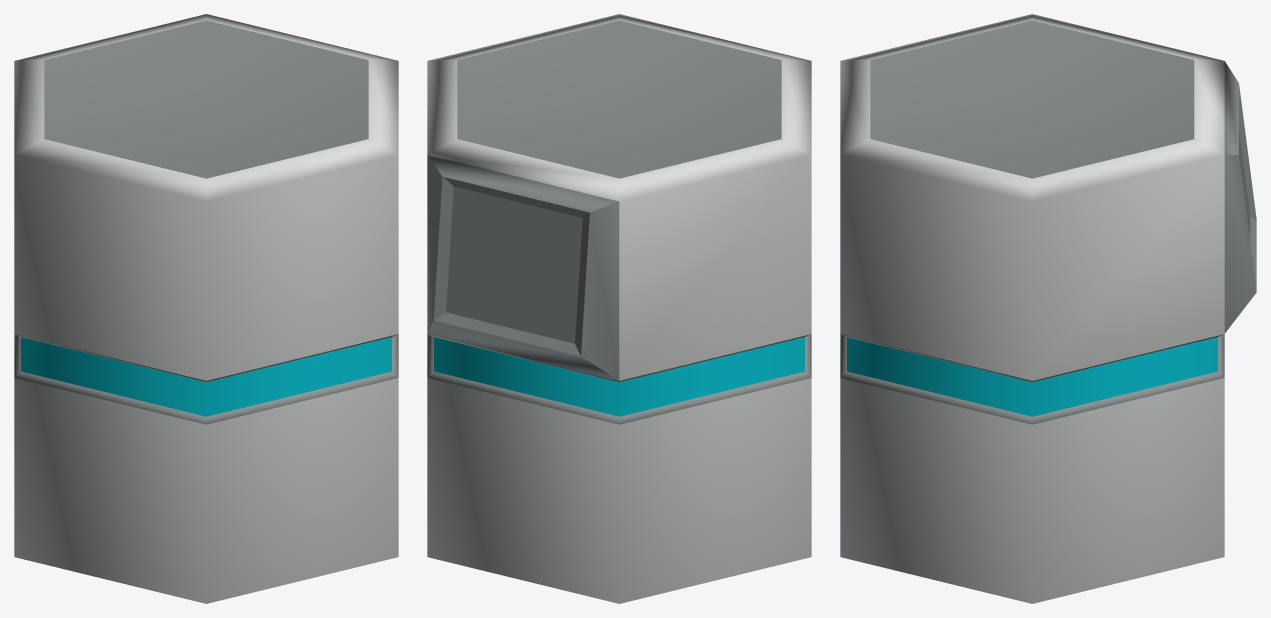
File: BarrelLarge.fbx
The picture shows the model from 3 angles, left to right: view 1: azimuth 30°, elevation 25°; view 2: azimuth 150°, elevation 25°; view 3: azimuth 270°, elevation 25°; orthographic projection.
Parts seen in each view (by area): view 1: pCylinder14; view 2: pCylinder14; view 3: pCylinder14.
Boxes of the visible parts, x1,y1,x2,y2 form: pCylinder14: (14,14,398,603); pCylinder14: (427,14,811,603); pCylinder14: (840,14,1256,603).
Size of the model in its own units: 0.4555 by 0.4741 by 0.4274.
